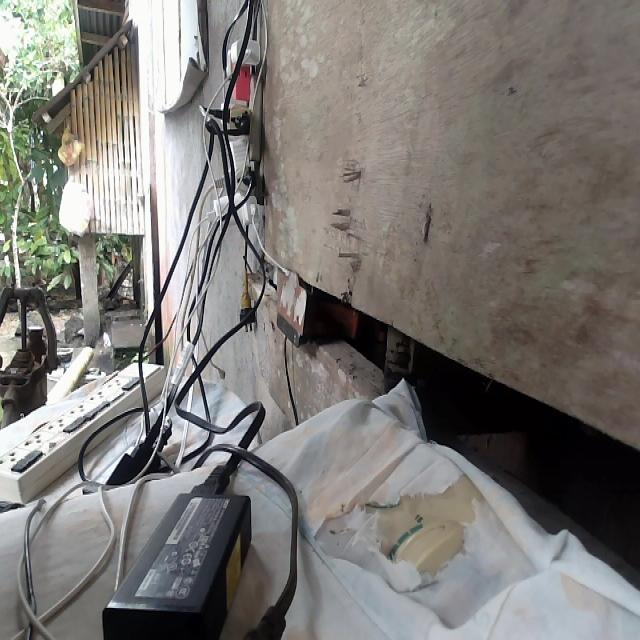-: (196, 29, 268, 232)
